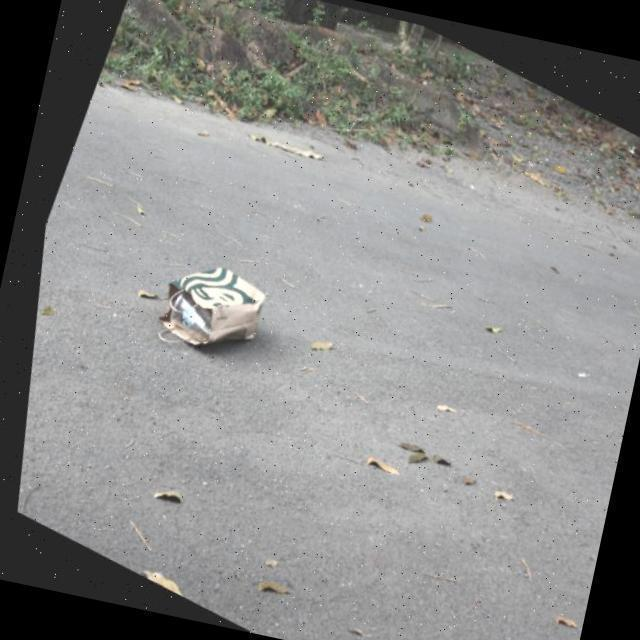Paper_Bag: (128, 237, 277, 381)
